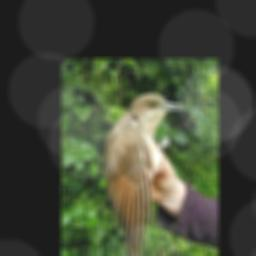Cuckoo: (104, 93, 185, 256)
